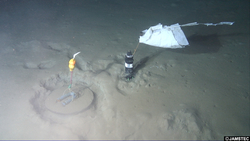plastic bag: (137, 20, 236, 49)
